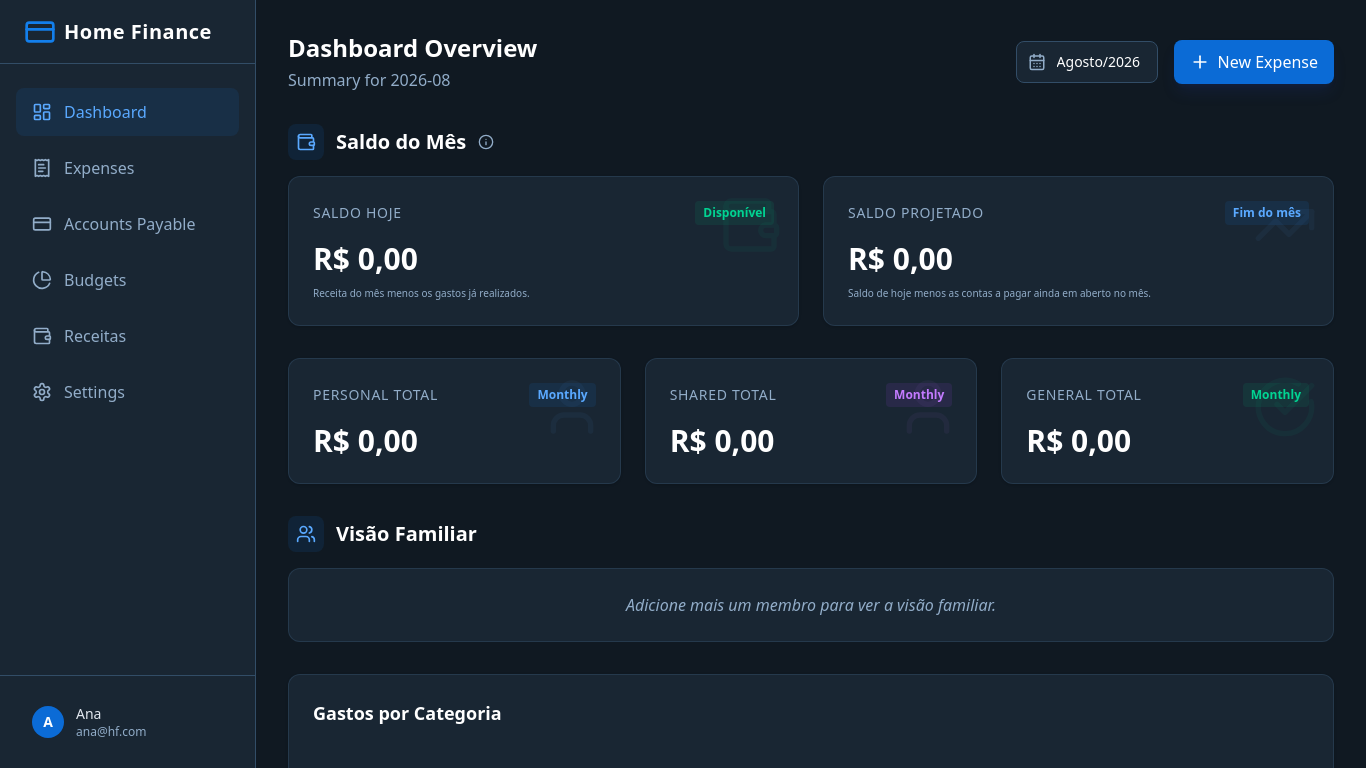
Scenario: Dashboard — interações e erros › abre o modal de nova despesa pelo botão New Expense
Click the button "New Expense": point(1254, 62) [1174,40,1334,84]
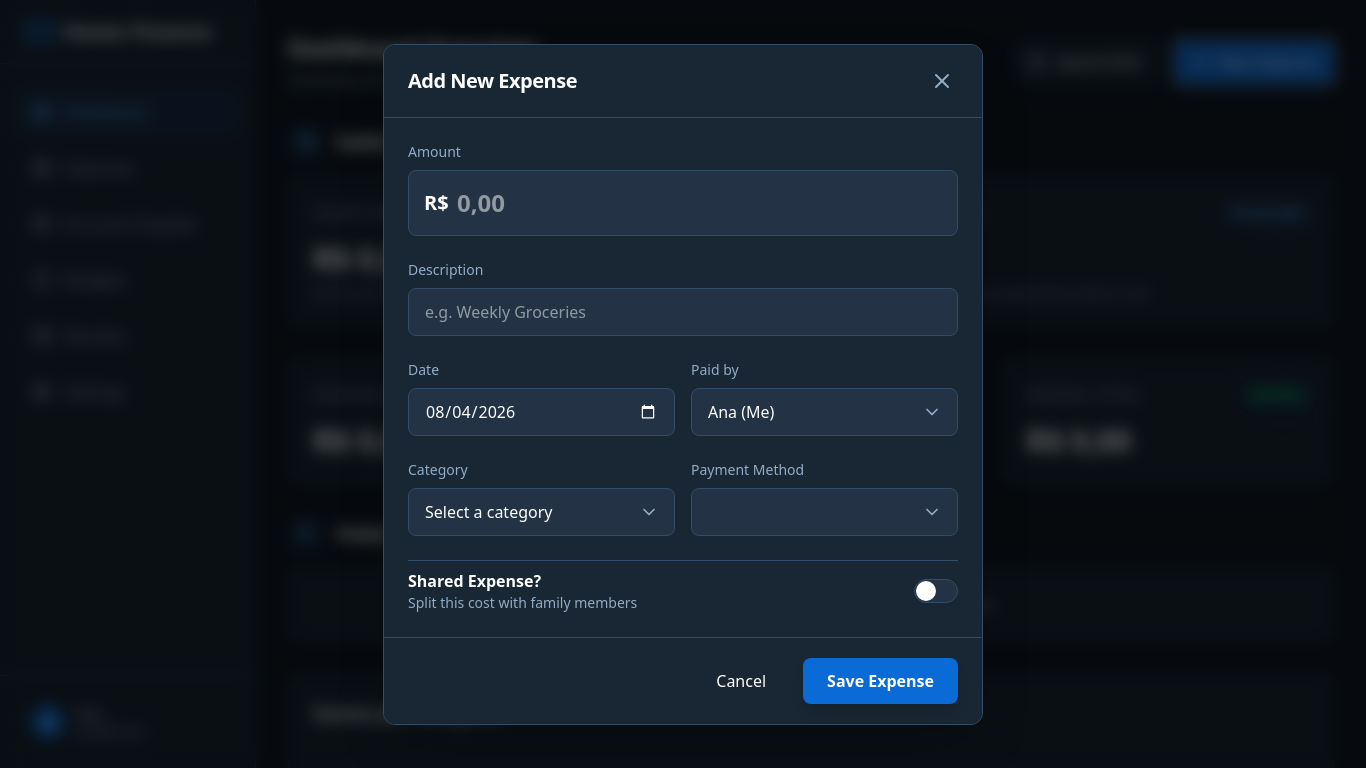
Check: the heading "Add New Expense" is shown, box [408,66,577,94]
